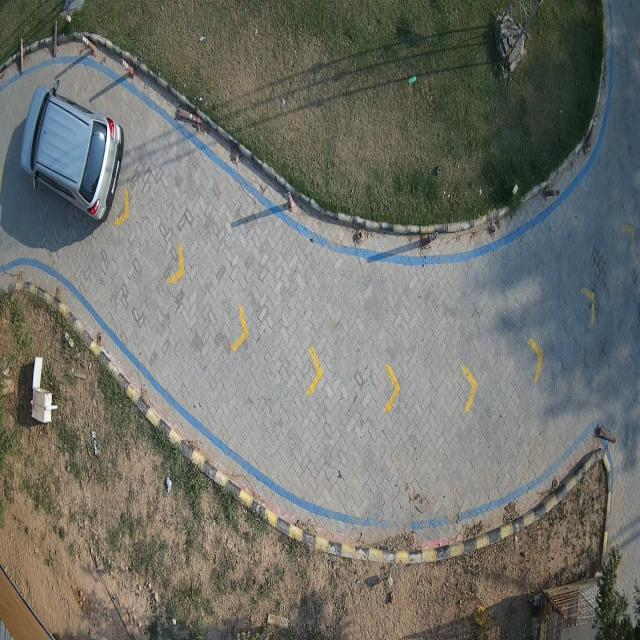car: (20, 86, 124, 224)
